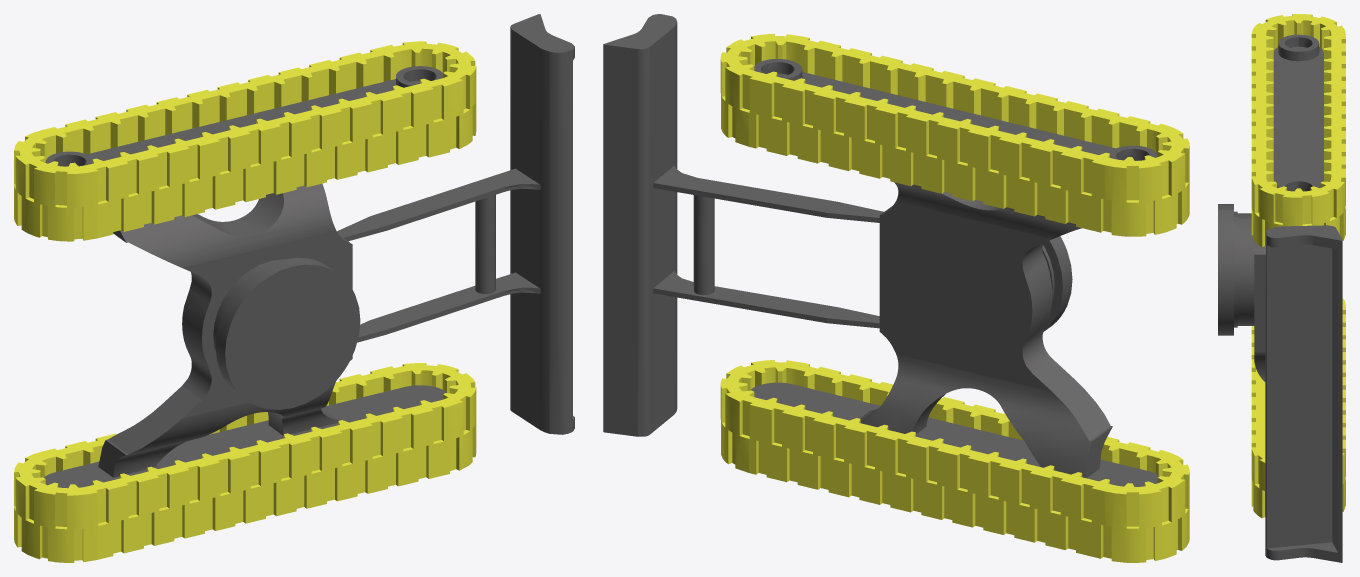
3 renders of one model, left to right at view 1: azimuth 30°, elevation 25°; view 2: azimuth 150°, elevation 25°; view 3: azimuth 270°, elevation 25°, orthographic. The views are drawn at different scales.
Parts seen in each view (by area): view 1: material_0, material_1; view 2: material_0, material_1; view 3: material_1, material_0.
Part boxes in pixels (x1=…): material_0: x1=14, y1=41, x2=476, y2=562; material_1: x1=43, y1=14, x2=574, y2=488; material_0: x1=720, y1=33, x2=1189, y2=562; material_1: x1=603, y1=14, x2=1159, y2=486; material_1: x1=1218, y1=34, x2=1342, y2=562; material_0: x1=1251, y1=14, x2=1345, y2=518.
Bounding box in the file's own units: 2.54 × 1.73 × 0.6105.
